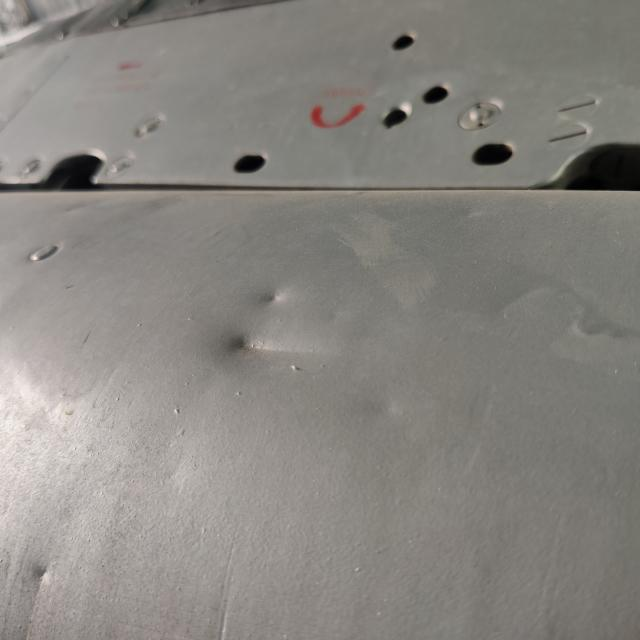dent: (213, 322, 339, 371), (250, 277, 294, 318)
